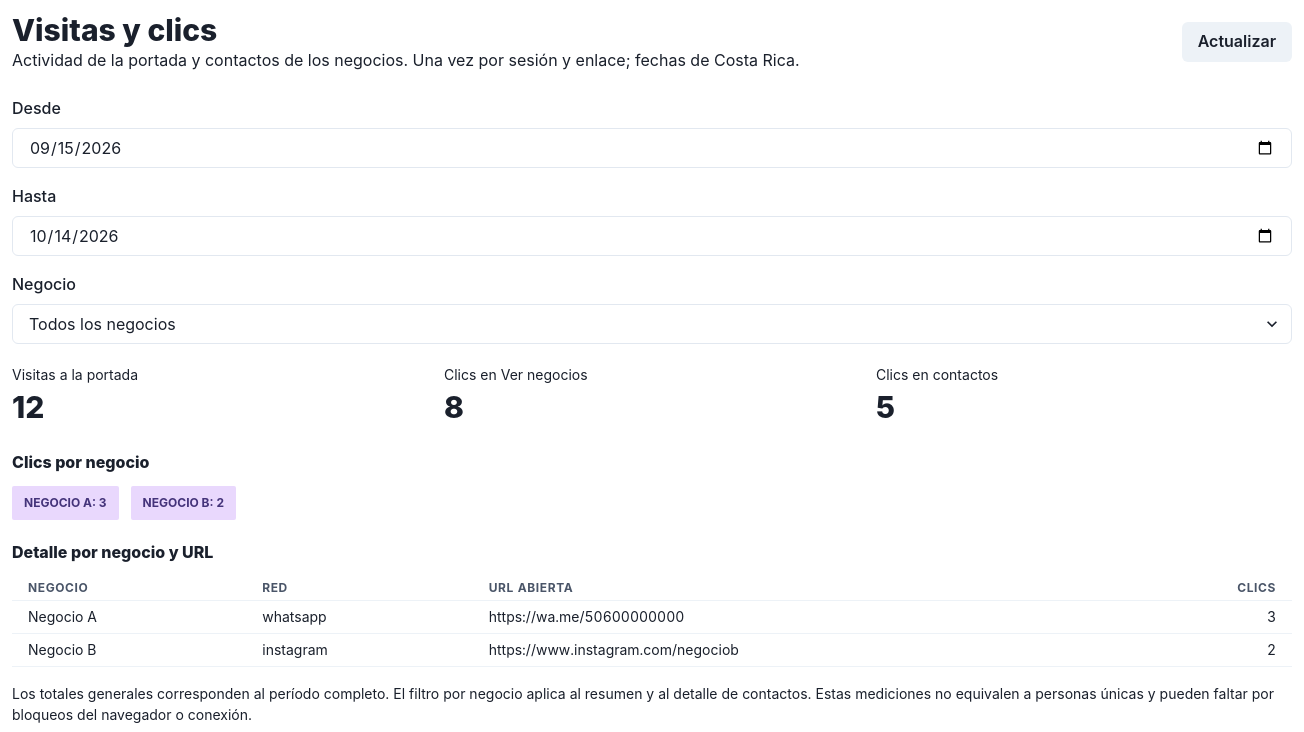
it: shows totals and filters exact URLs by business
Check: the text "https://wa.me/50600000000" is shown, box [489,608,684,625]
Check: the text "12" is shown, box [12,389,44,425]
Select "Negocio A" in the dropdown labelled "Negocio": (652, 324) [12,304,1292,344]
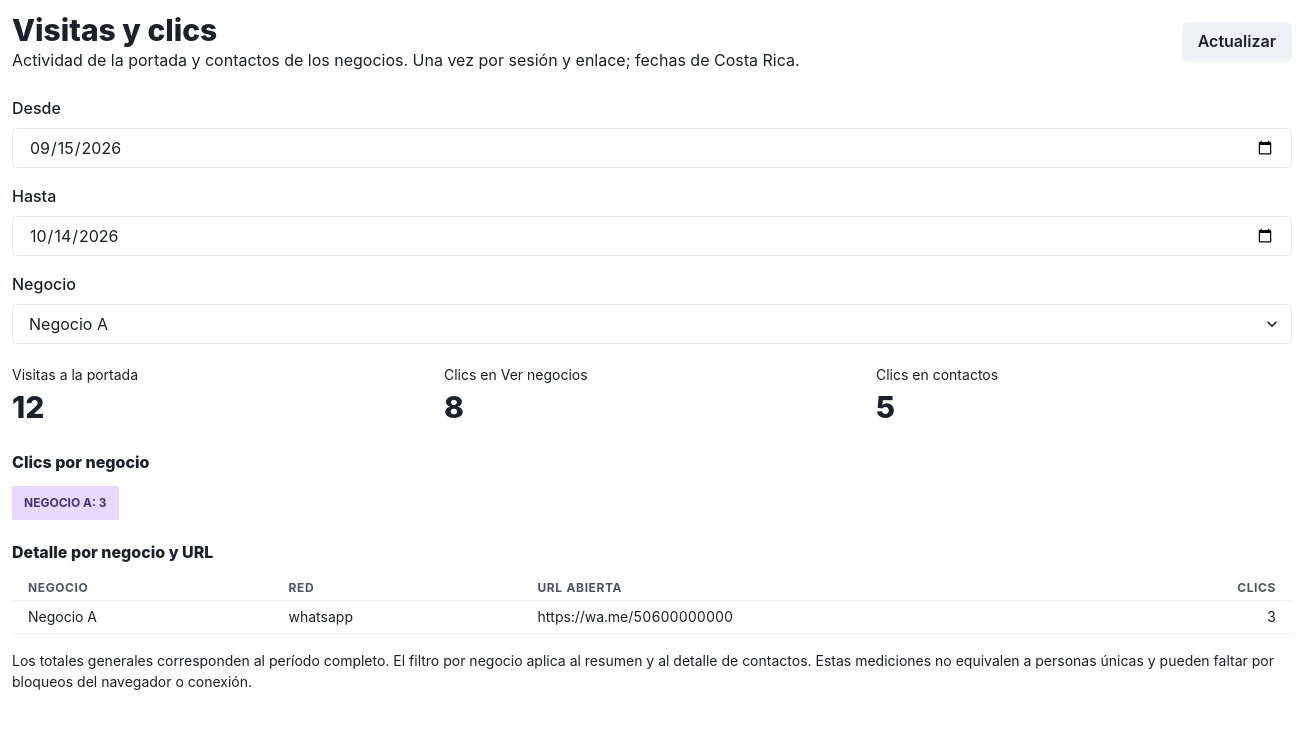
Check: the text "https://wa.me/50600000000" is shown, box [538,608,733,625]
Check: the text "https://www.instagram.com/negociob" is gone
